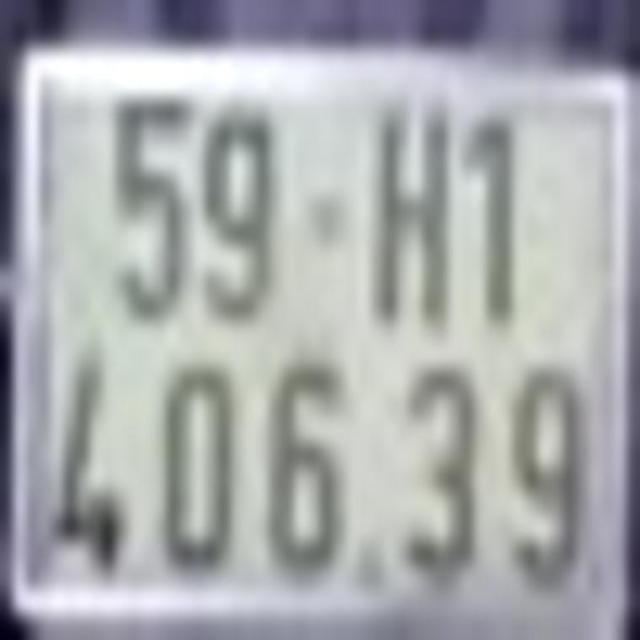0: (162, 352, 240, 577)
1: (459, 95, 523, 324)
3: (390, 351, 484, 588)
4: (42, 336, 132, 586)
5: (112, 85, 192, 322)
6: (258, 348, 352, 584)
9: (196, 84, 280, 326), (504, 342, 577, 590)
H: (375, 98, 454, 328)
